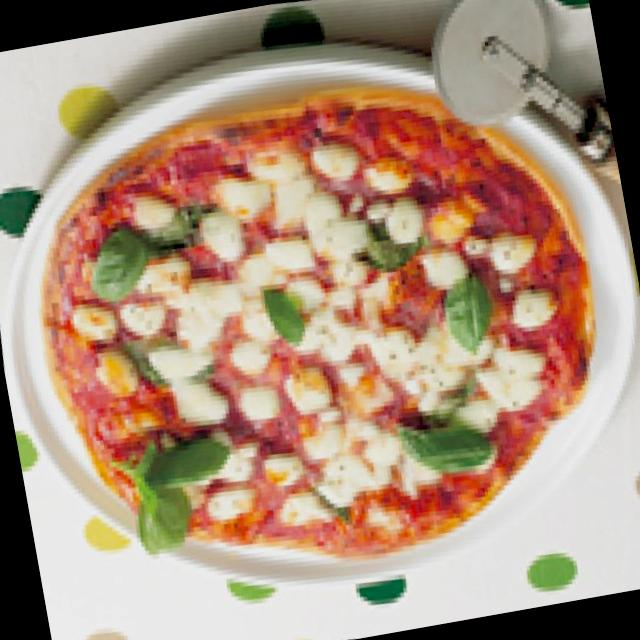Pizza: (0, 29, 640, 627)
